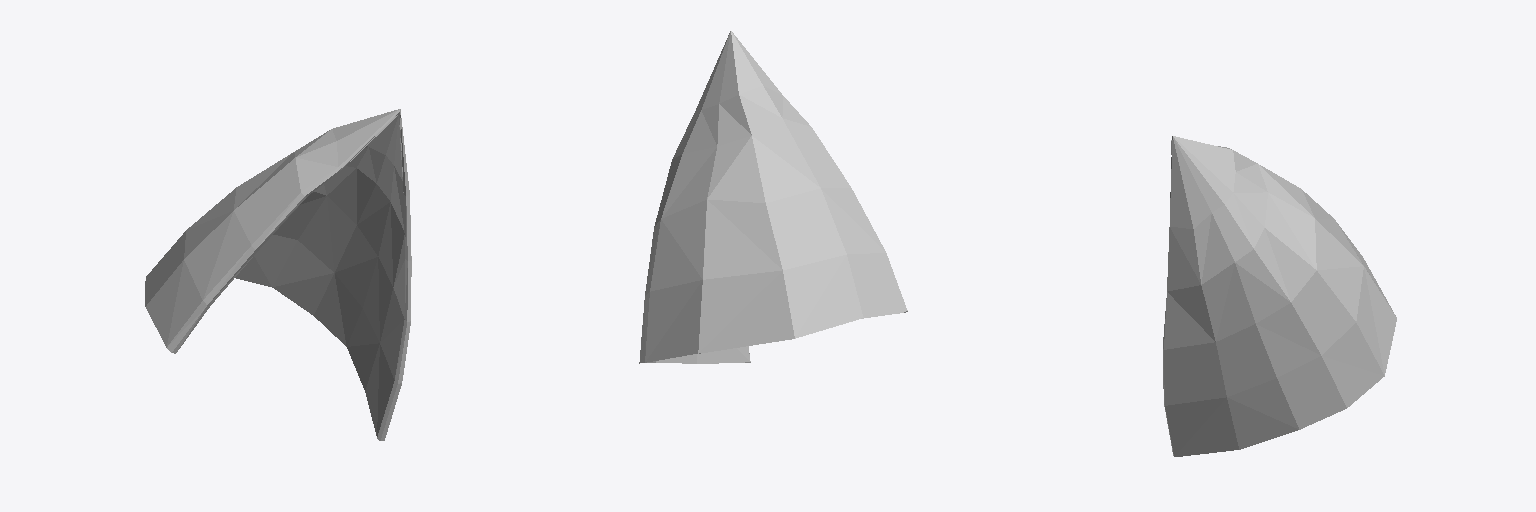
File: nya_ear_outer.obj
3 renders of one model, left to right at view 1: azimuth 30°, elevation 25°; view 2: azimuth 150°, elevation 25°; view 3: azimuth 270°, elevation 25°, orthographic.
Parts seen in each view (by area): view 1: stroll_p_body4_model1.001; view 2: stroll_p_body4_model1.001; view 3: stroll_p_body4_model1.001.
Boxes of the visible parts, x1,y1,x2,y2 form: stroll_p_body4_model1.001: [145, 109, 411, 440]; stroll_p_body4_model1.001: [639, 31, 907, 363]; stroll_p_body4_model1.001: [1163, 136, 1396, 456].
Bounding box in the file's own units: 3.29 × 4.5 × 2.91.